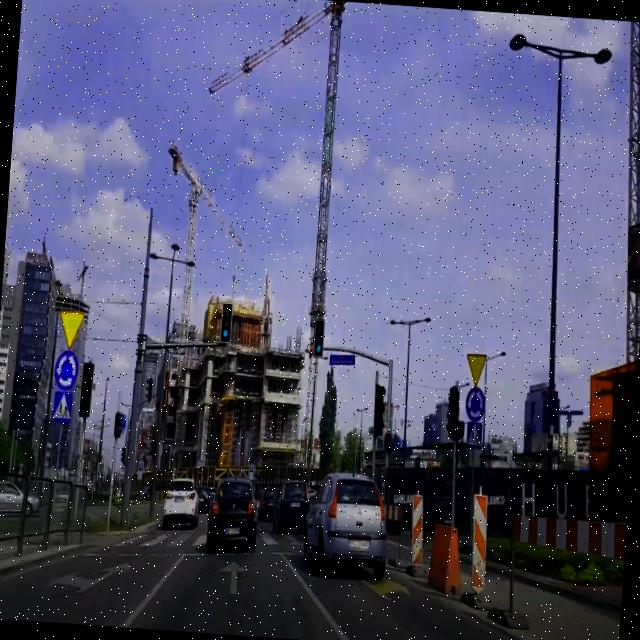Ustap pierwszenstwa: (56, 308, 84, 348), (464, 352, 487, 386)
